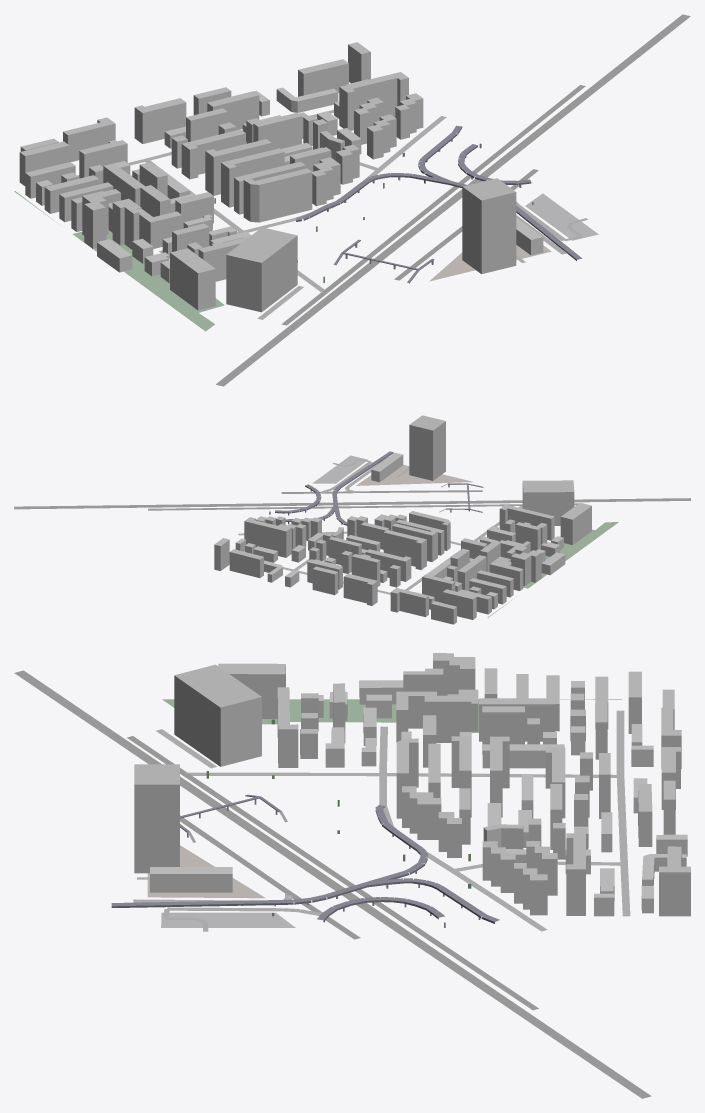
3 renders of one model, top to bottom at view 1: azimuth 30°, elevation 25°; view 2: azimuth 150°, elevation 25°; view 3: azimuth 270°, elevation 25°, orthographic. The views are drawn at different scales.
Bounding box in the file's own units: 932 × 92.33 × 621.
